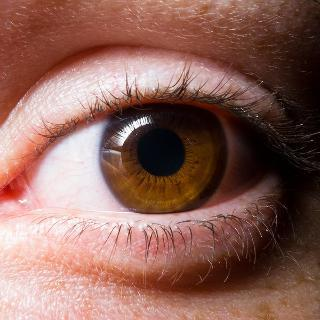pupil: (137, 127, 185, 175)
